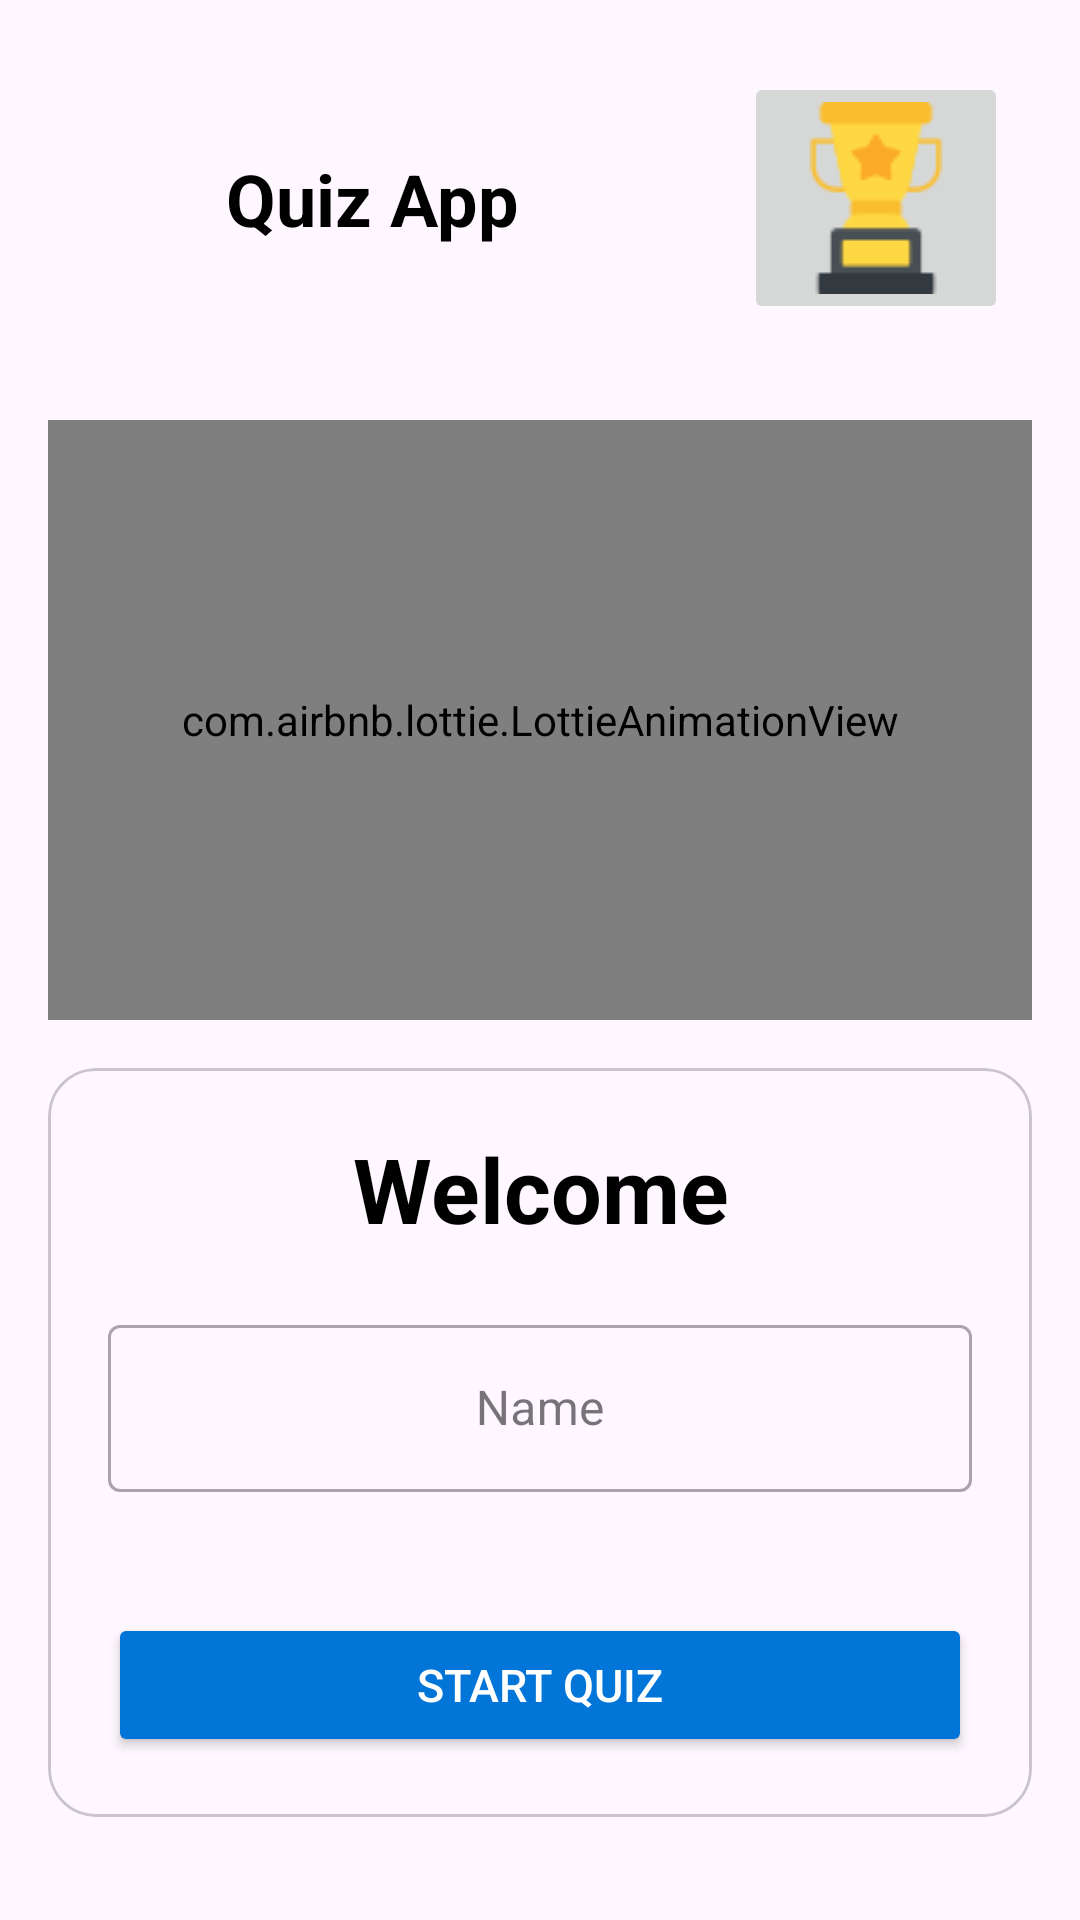

Named icons in this screenshot (1080 × 1920) and their centers, (x=x, y=y):
trofeo: (x=876, y=198)
